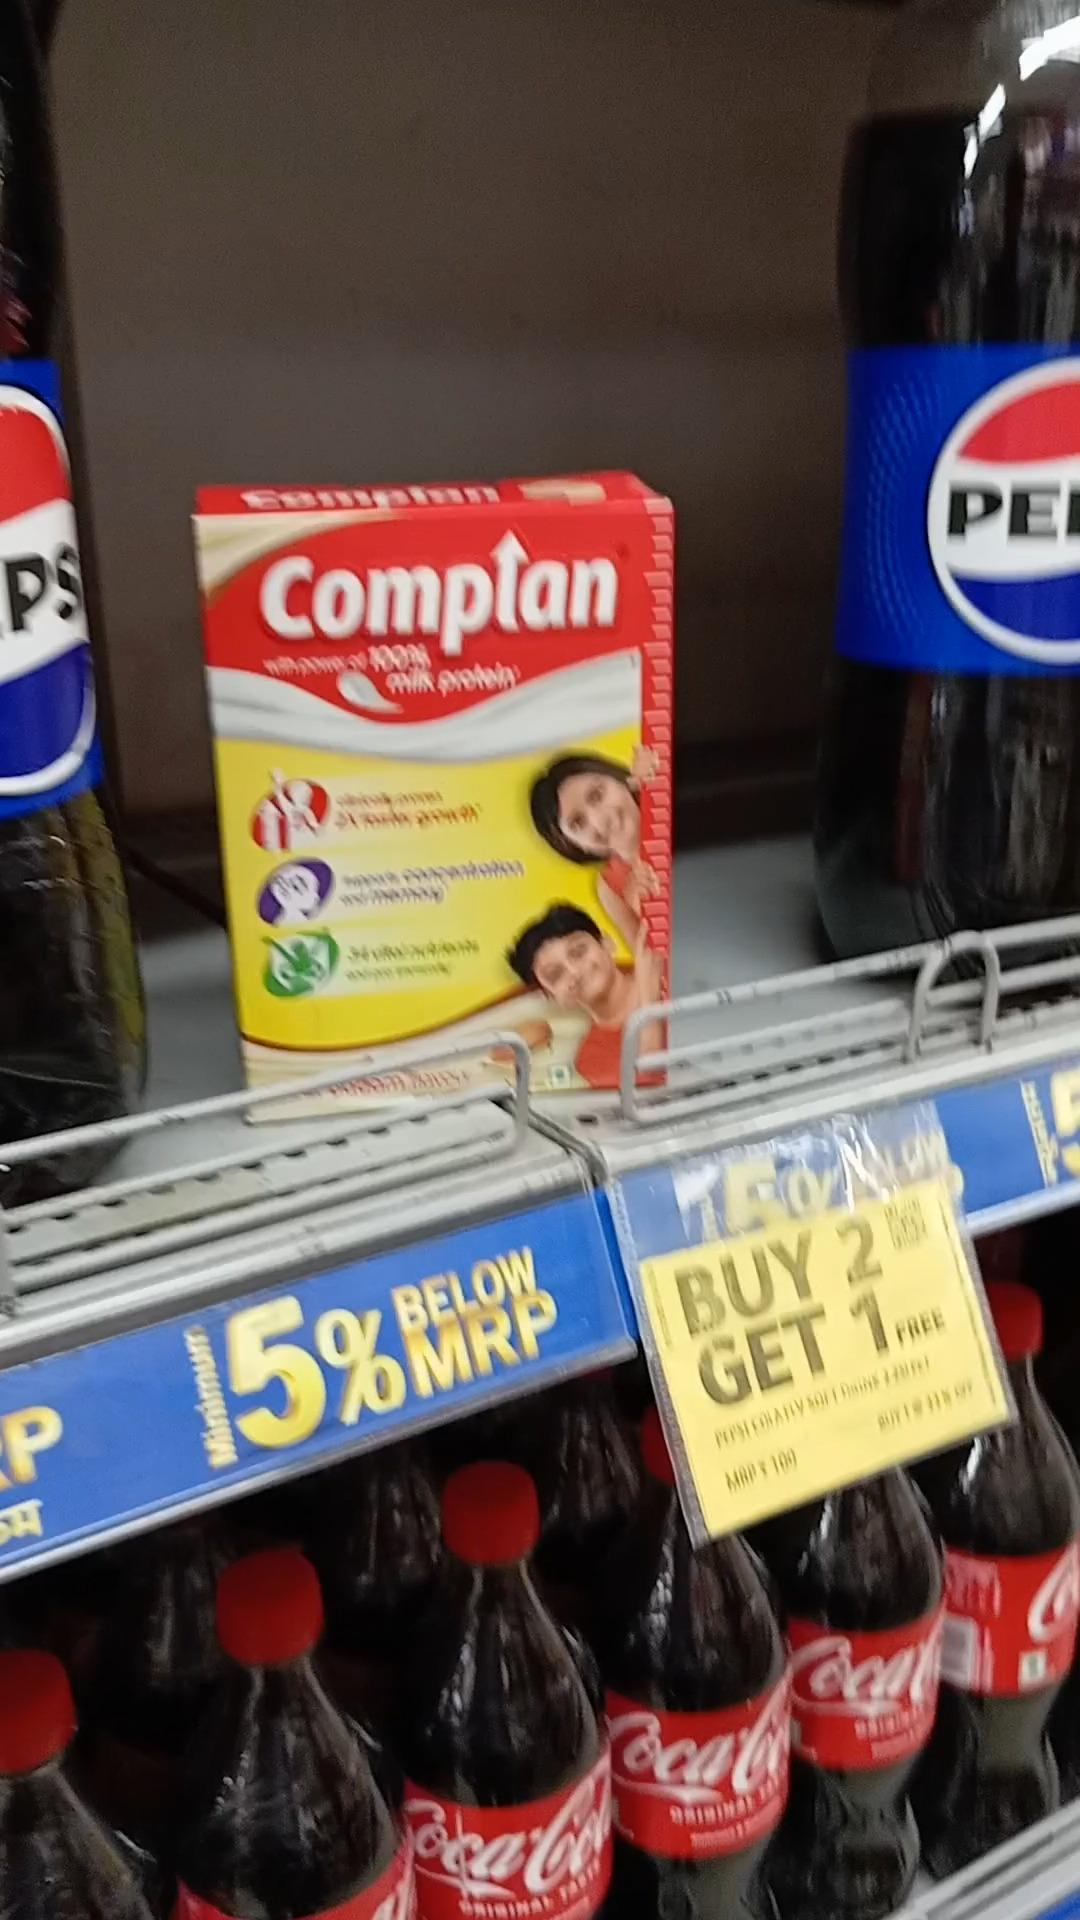COMPLAN_CHOCOLATE_200_GMS_JAR: (224, 516, 663, 1096)
